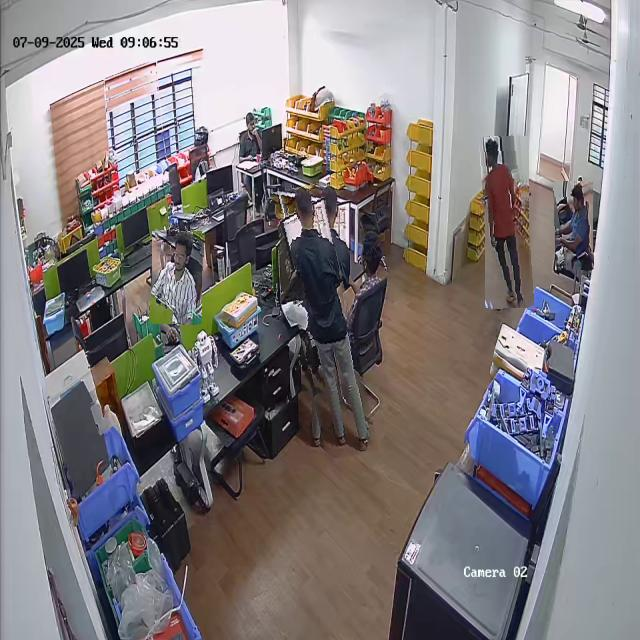person: (284, 184, 365, 460), (482, 136, 532, 309), (151, 230, 203, 325), (554, 181, 594, 270)
